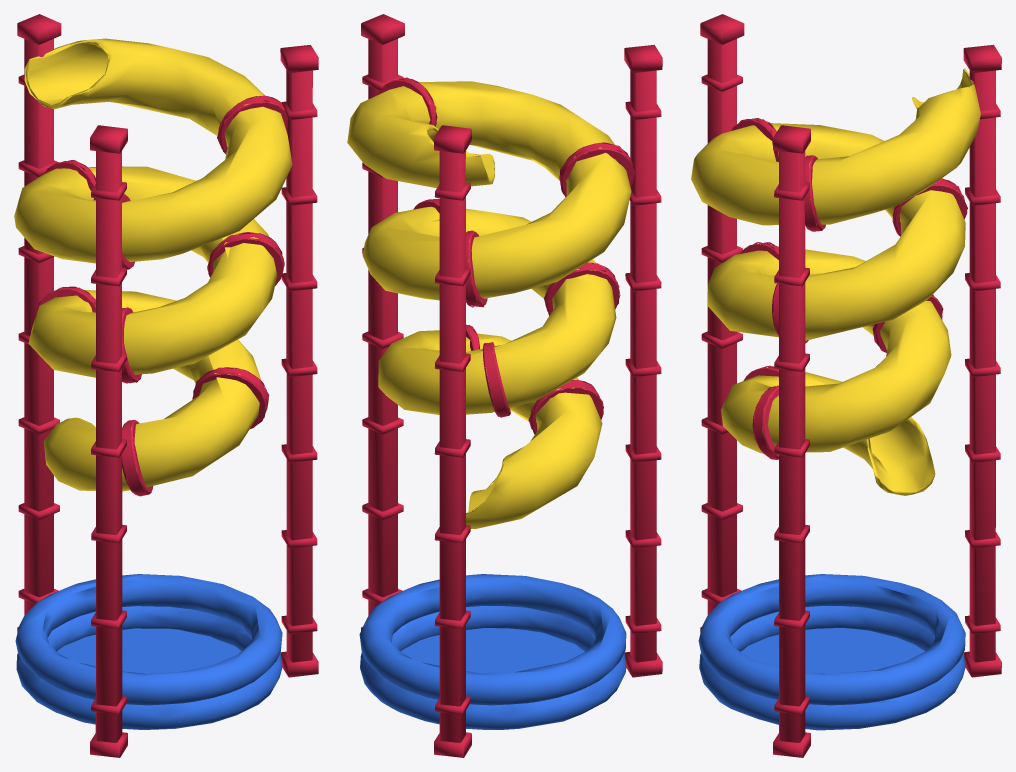
File: Slider.fbx
3 views of the same model, side by side, from view 1: azimuth 30°, elevation 25°; view 2: azimuth 150°, elevation 25°; view 3: azimuth 270°, elevation 25° (orthographic).
Parts seen in each view (by area): view 1: SLIDE, PILARS, POOL_1, RINGS; view 2: SLIDE, PILARS, POOL_1, RINGS; view 3: SLIDE, PILARS, POOL_1, RINGS.
Part boxes in pixels (<box>): SLIDE: <box>14,38,292,491</box>; PILARS: <box>17,14,318,757</box>; POOL_1: <box>15,574,282,729</box>; RINGS: <box>35,95,287,496</box>; SLIDE: <box>347,81,631,528</box>; PILARS: <box>361,14,662,757</box>; POOL_1: <box>359,574,626,729</box>; RINGS: <box>377,77,634,434</box>; SLIDE: <box>691,68,980,495</box>; PILARS: <box>700,14,1001,757</box>; POOL_1: <box>698,574,965,730</box>; RINGS: <box>731,118,967,459</box>.
Bounding box in the file's own units: 648 × 1437 × 656.
